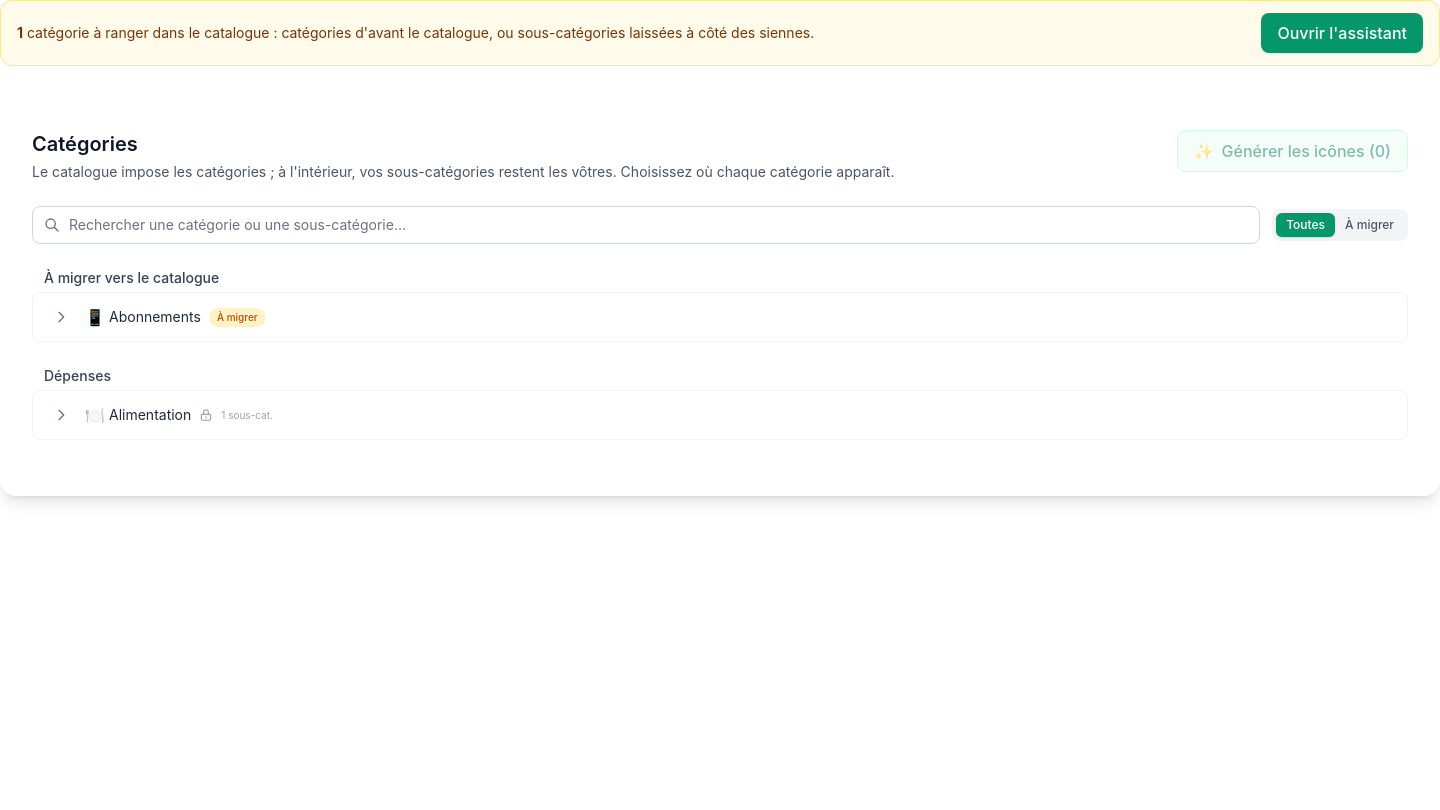
Test: CategoriesSettingsPage › puts the legacy categories first, with the banner and the assistant link
Expected: the message with test id "legacy-migration-banner" is shown, x1=0 y1=0 x2=1439 y2=66
Expected: the list item with test id "category-row" shows "Abonnements", x1=109 y1=308 x2=201 y2=325
Step 1. Click the button named "Déplier Abonnements" → (61, 317), box x1=45 y1=301 x2=77 y2=333
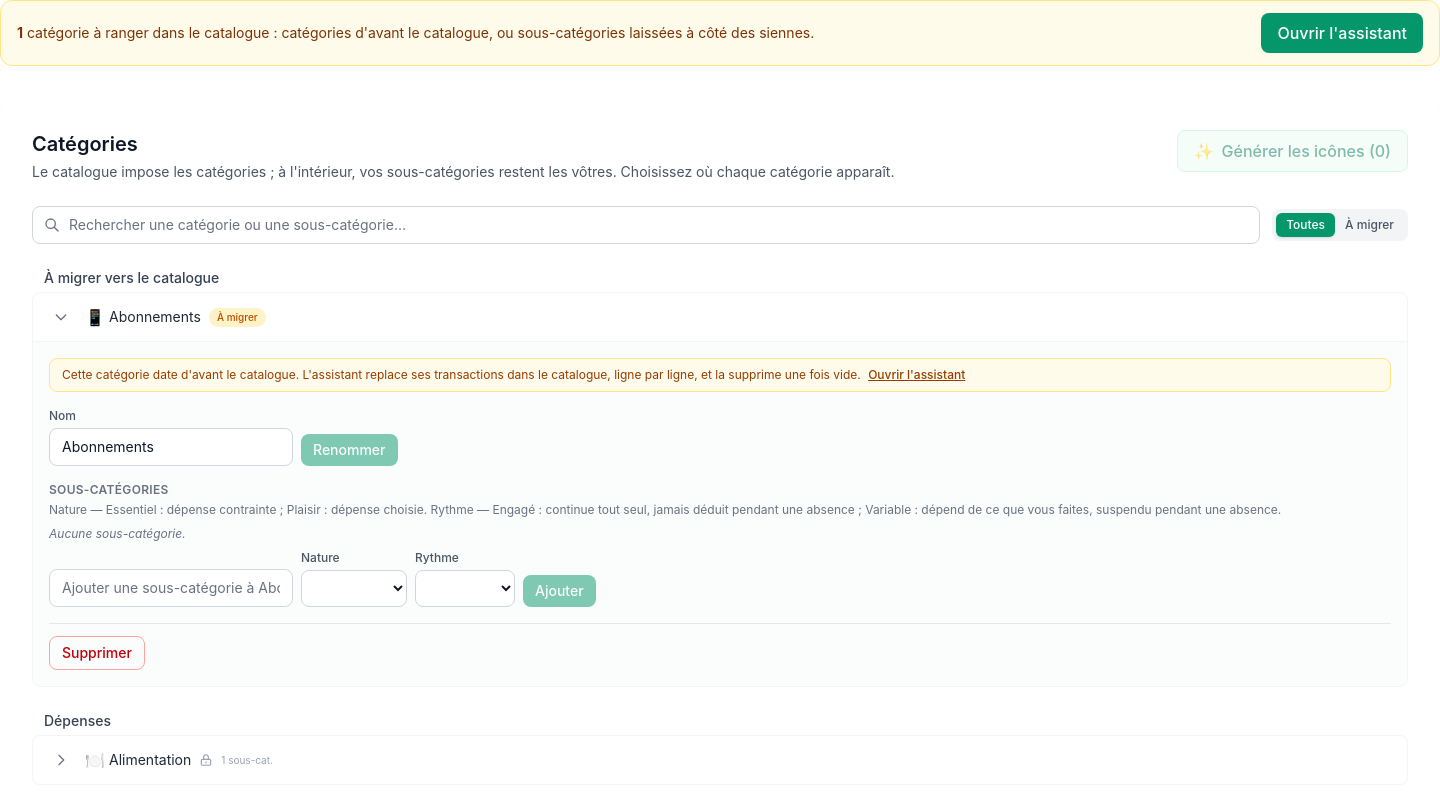
Expected: the link with test id "migrate-category-cat-abos" is shown, x1=868 y1=367 x2=965 y2=382
